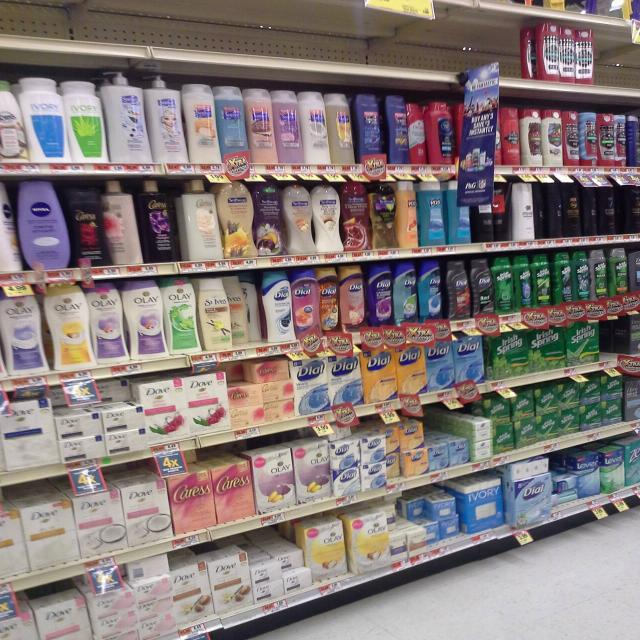empty: (594, 316, 636, 363)
